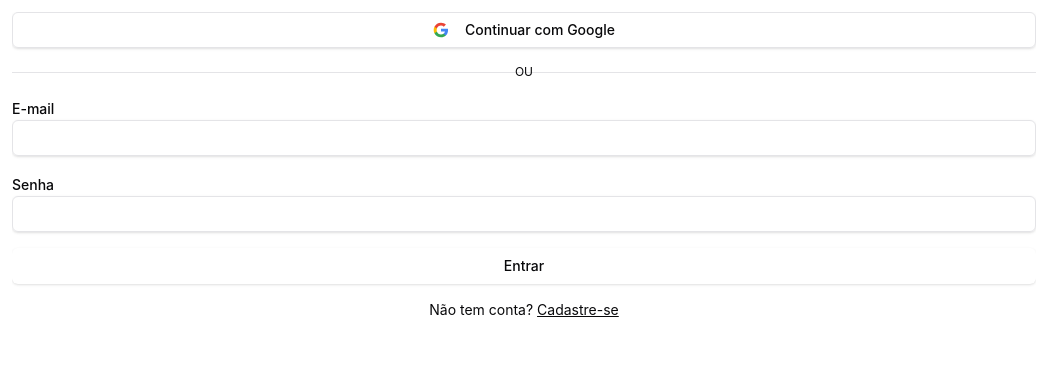
LoginForm › erro 401 do backend exibe mensagem de credenciais inválidas
Step 1. Type "joao@example.com" into the field labelled "E-mail" → coordinates (524, 138), box [12,120,1036,156]
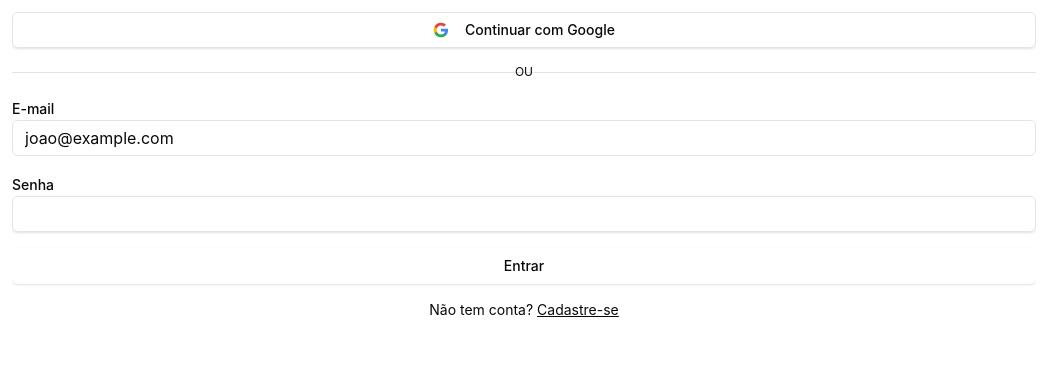
Step 2. Type "senhaerrada" into the password field labelled "Senha" → coordinates (524, 214), box [12,196,1036,232]
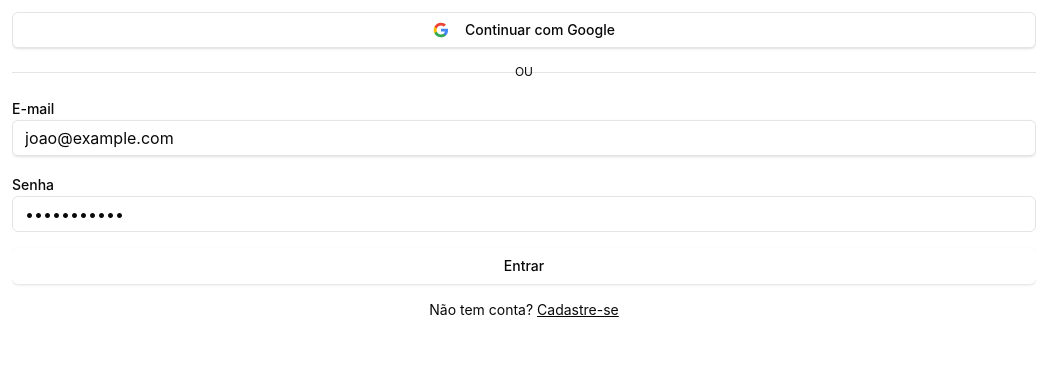
Step 3. Click the button "Entrar" → coordinates (524, 266), box [12,248,1036,284]
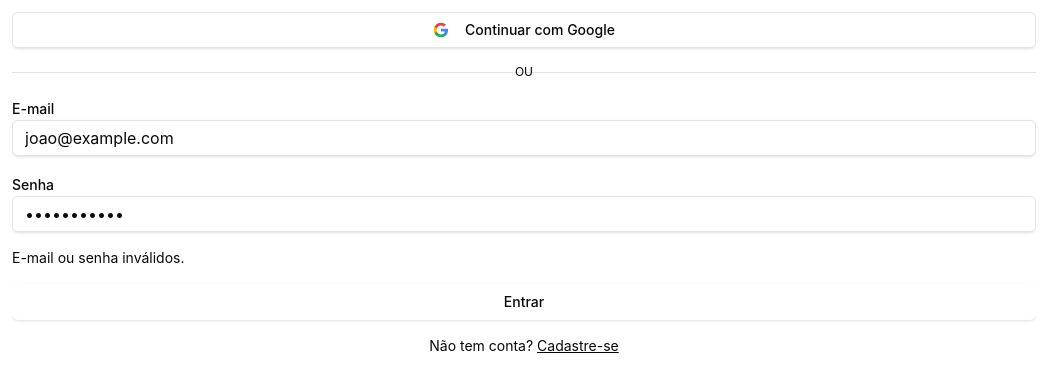
Expected: the message "E-mail ou senha inválidos." is shown, [12,249,184,266]
